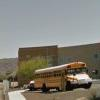Bus: (25, 58, 91, 93)
